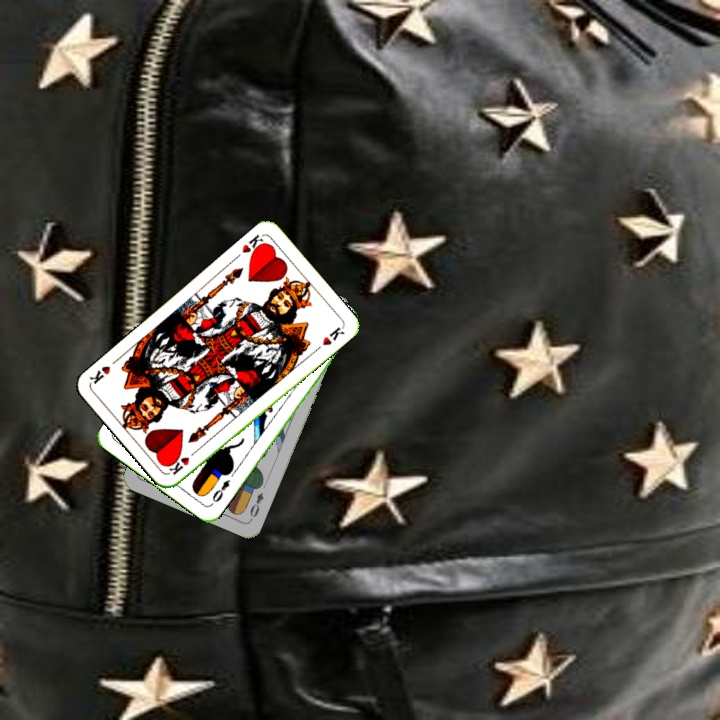EO: (207, 476, 233, 507), (246, 488, 266, 523)
HK: (164, 445, 200, 477), (238, 230, 269, 259)
